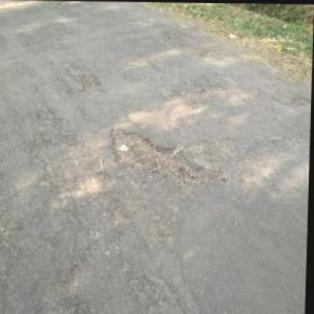Hueco: (109, 124, 213, 184), (68, 65, 105, 92)
